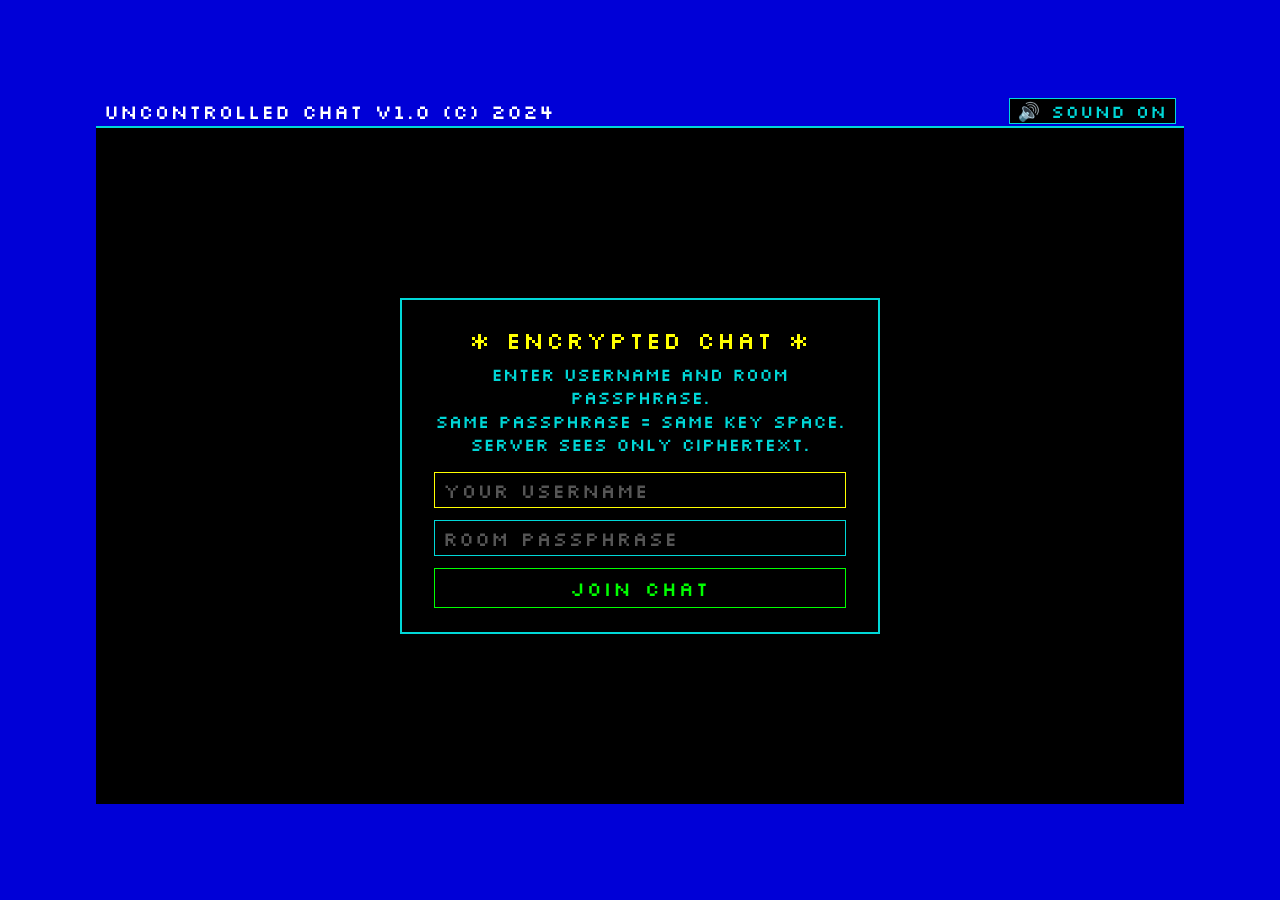
Test case: Sound toggle button — label toggles on click › changes label to "SOUND OFF" after first click
Click the button "🔊 SOUND ON" at (1092, 111), box [1008, 98, 1176, 124]
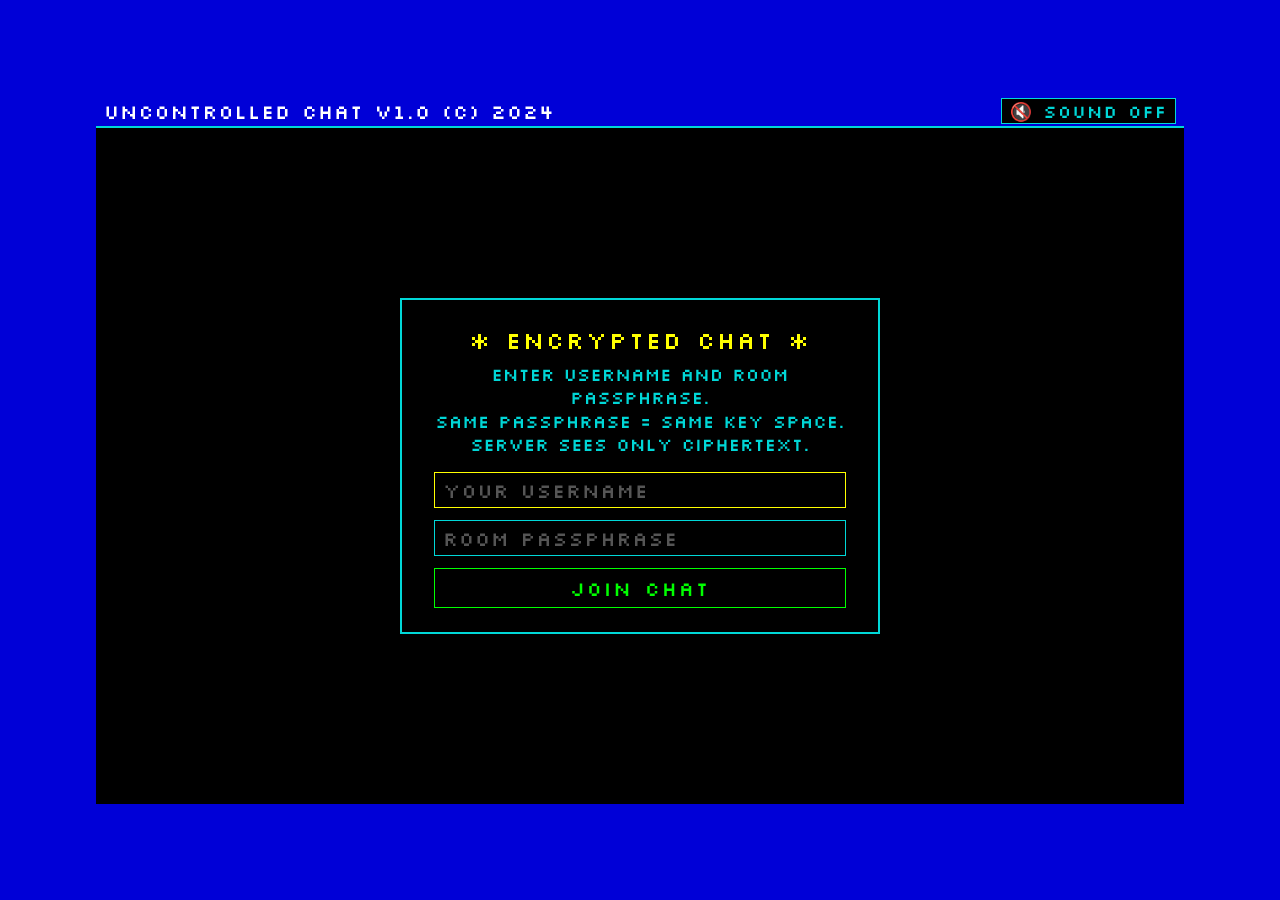
expect the button "sound" does not show "on": met
expect the button "🔇 SOUND OFF" is shown: met, box [1001, 98, 1176, 124]
